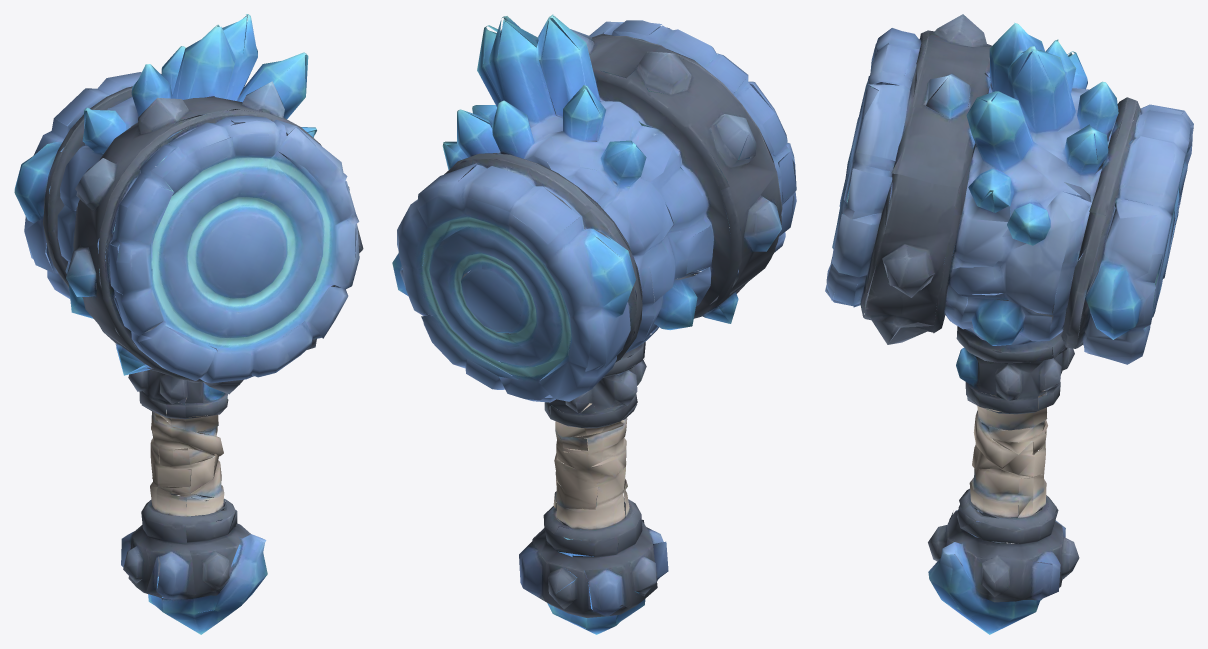
Rendered from tll_ch3_seal.glb.
3 views of the same model, side by side, from view 1: azimuth 30°, elevation 25°; view 2: azimuth 150°, elevation 25°; view 3: azimuth 270°, elevation 25° (orthographic). The views are drawn at different scales.
Parts seen in each view (by area): view 1: tripo_node_ddfc8b75-f2cc-4a65-8b3b-258073567664; view 2: tripo_node_ddfc8b75-f2cc-4a65-8b3b-258073567664; view 3: tripo_node_ddfc8b75-f2cc-4a65-8b3b-258073567664.
Boxes of the visible parts, x1,y1,x2,y2 form: tripo_node_ddfc8b75-f2cc-4a65-8b3b-258073567664: (14,14,363,634); tripo_node_ddfc8b75-f2cc-4a65-8b3b-258073567664: (392,14,796,634); tripo_node_ddfc8b75-f2cc-4a65-8b3b-258073567664: (825,14,1193,634).
Size of the model in its own units: 0.5082 by 1 by 0.5327.
1 material, 1 textured.
